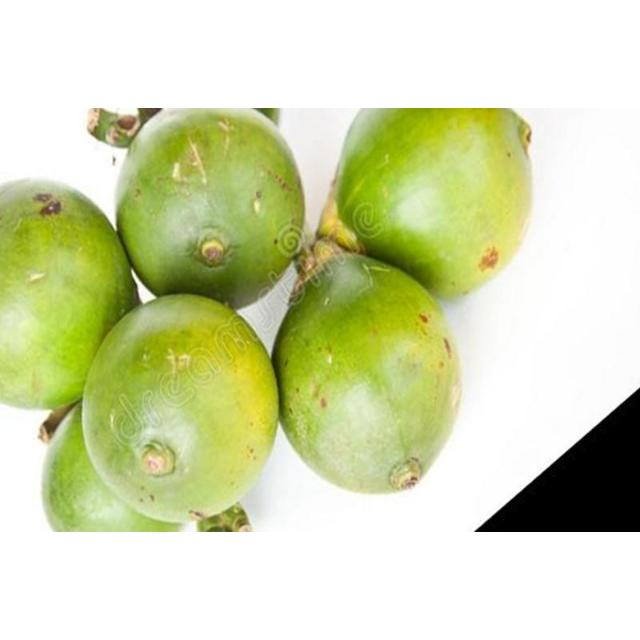good: (3, 110, 295, 520), (305, 109, 527, 512)
